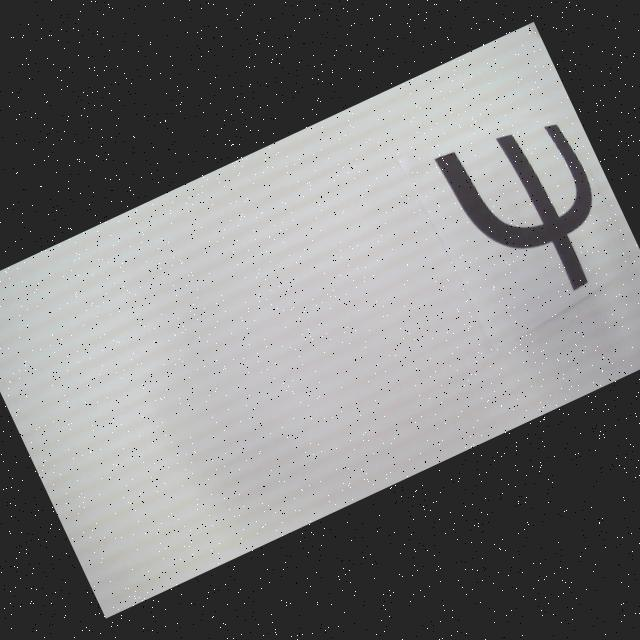PSI: (432, 102, 630, 321)
